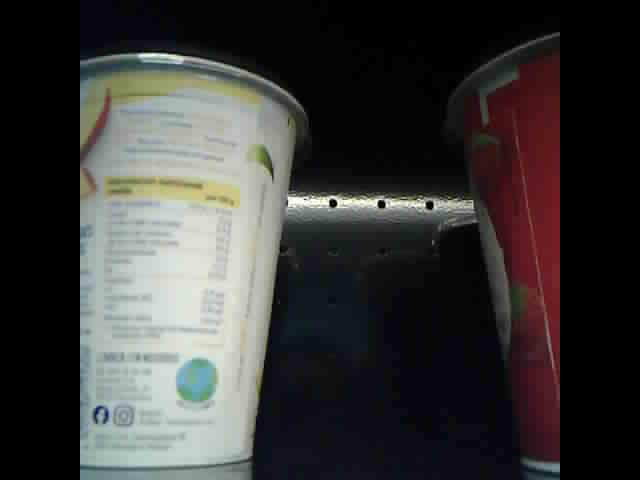alpro: (79, 46, 310, 471), (447, 26, 560, 475)
